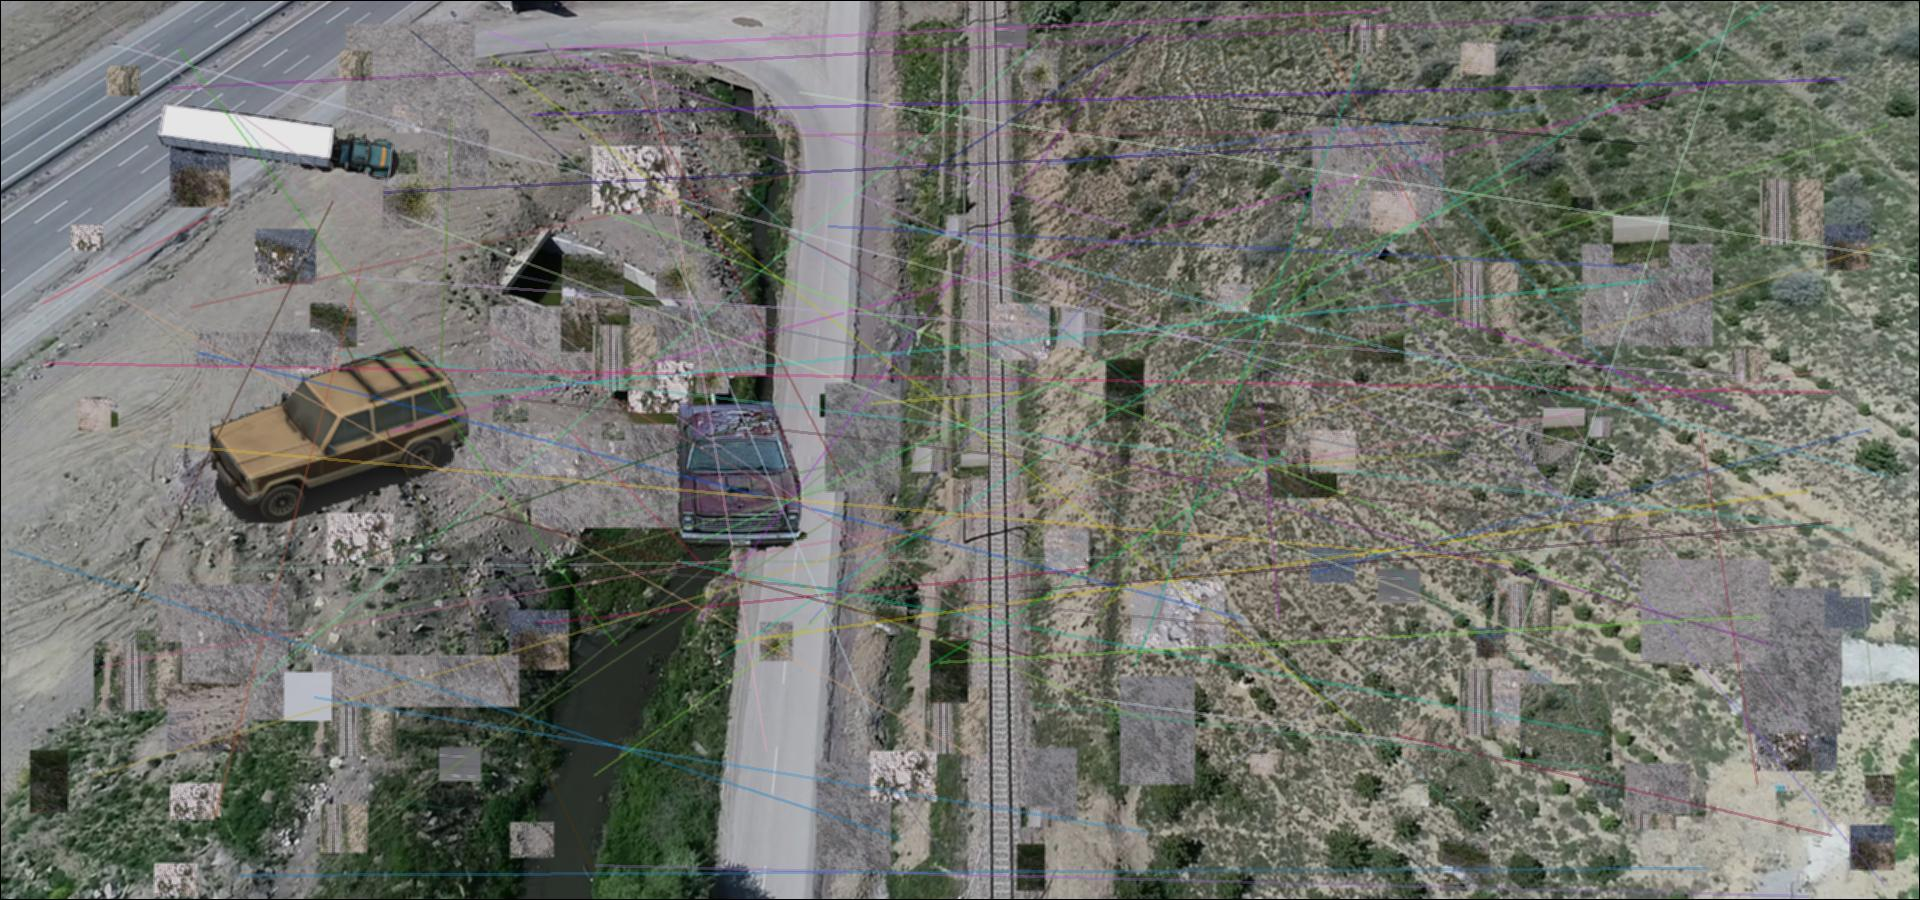arac: (211, 340, 470, 523), (665, 396, 807, 553), (154, 98, 399, 182)
